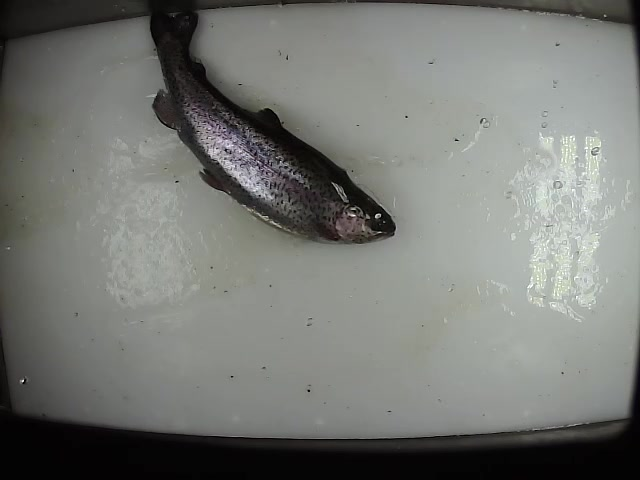fish: (147, 4, 397, 248)
